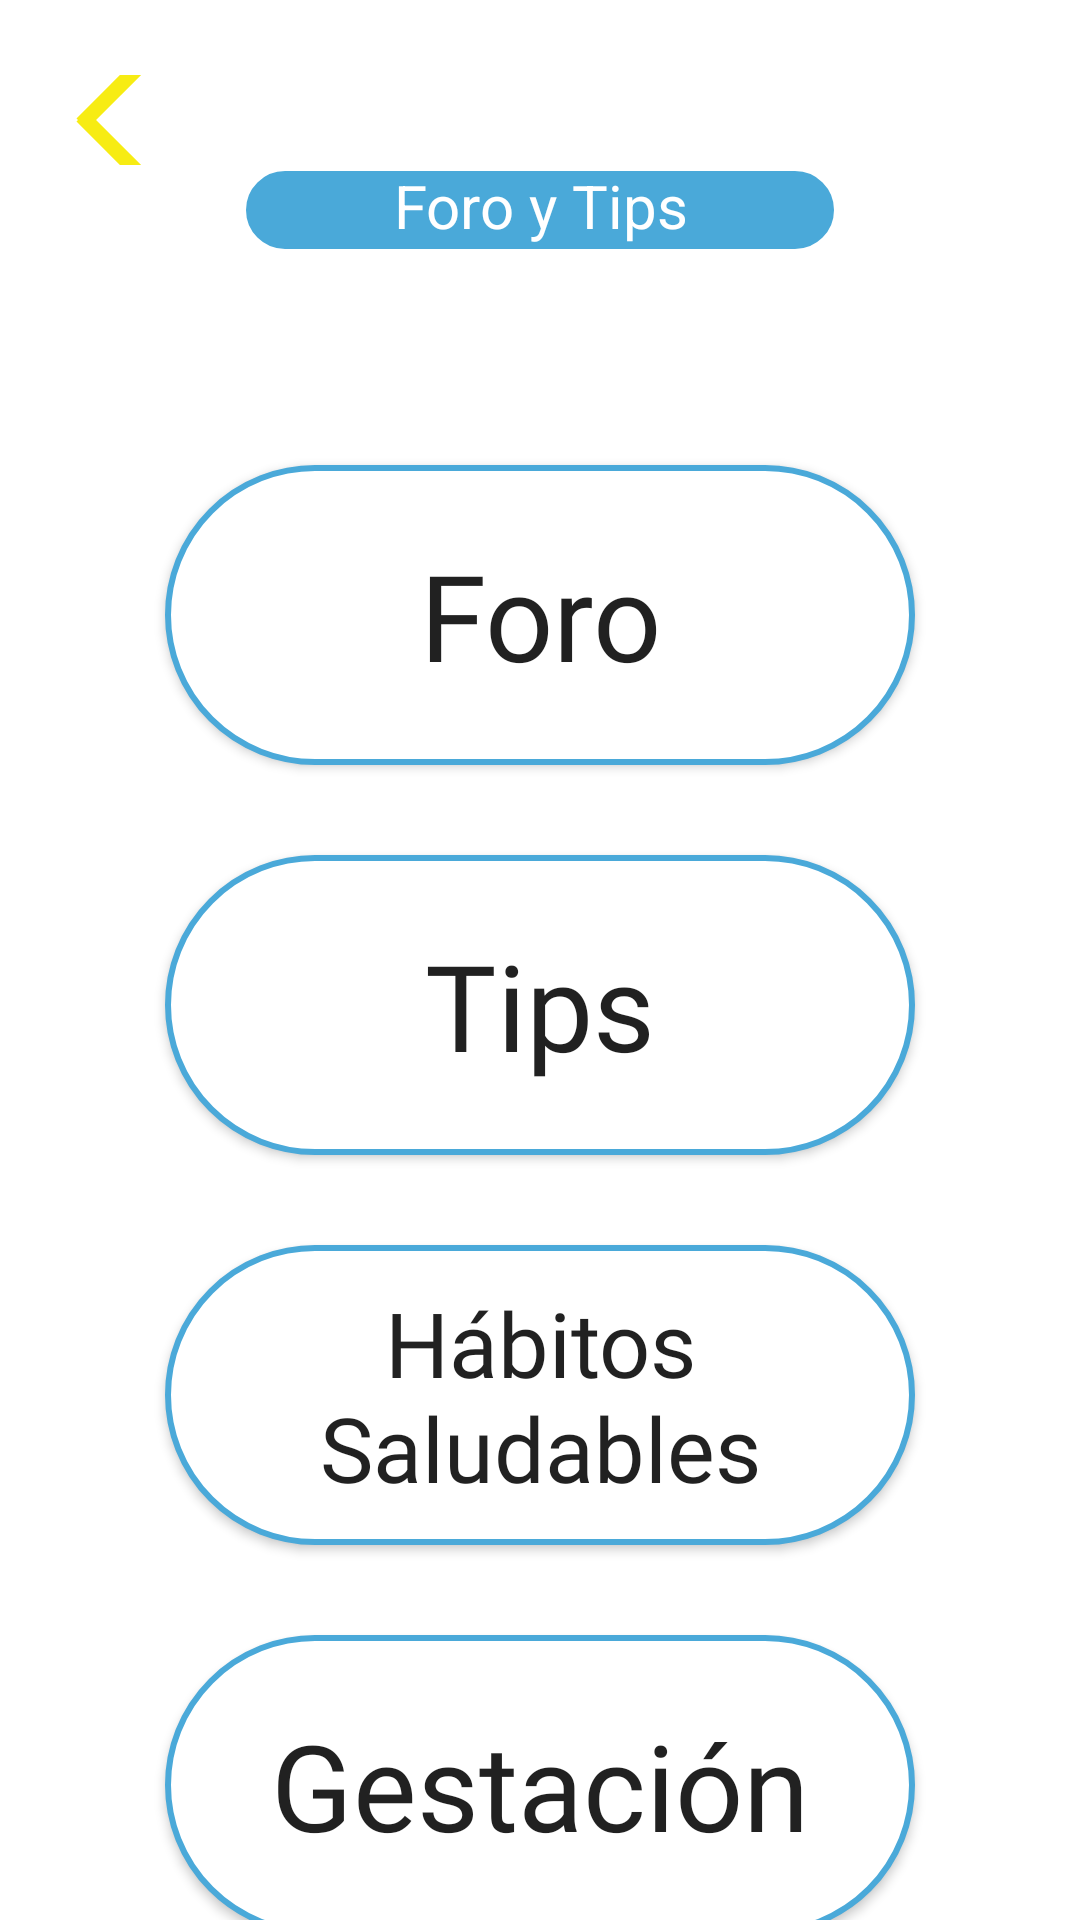

Icon bounding boxes for this 1080 x 1920 phone screenshot, format [x1,y1,x2,y2]:
flecha: [76,75,141,165]
